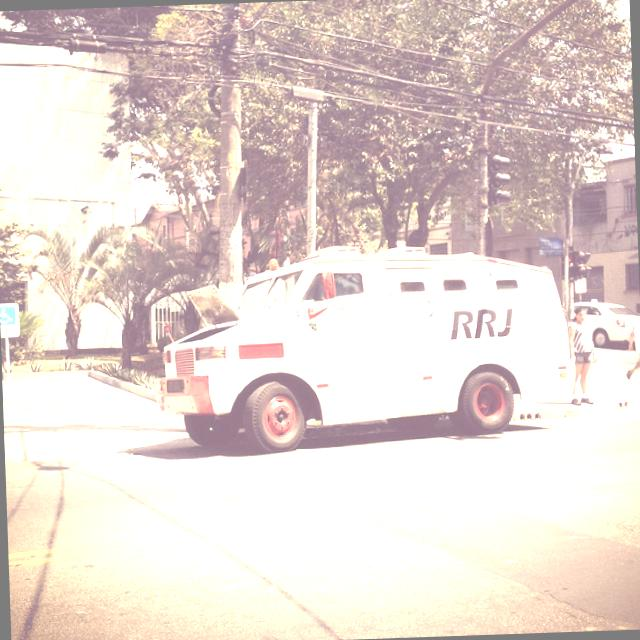Vehicle: (158, 237, 574, 456), (571, 296, 640, 347)
